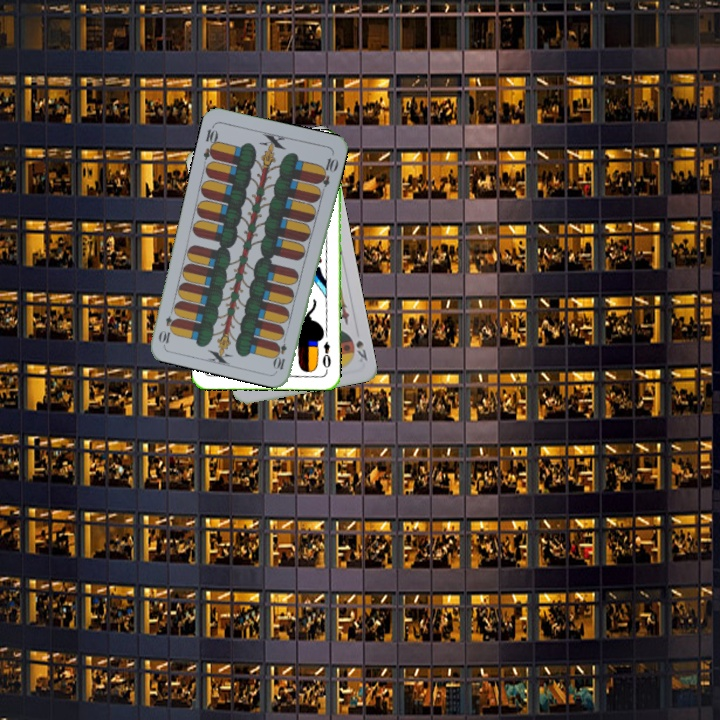E10: (199, 121, 221, 162), (271, 332, 290, 372)
EO: (318, 338, 334, 374)
SK: (346, 332, 370, 364)
